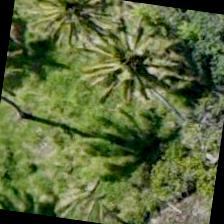Kelapa_Sawit: (83, 4, 185, 106), (16, 0, 114, 54)
